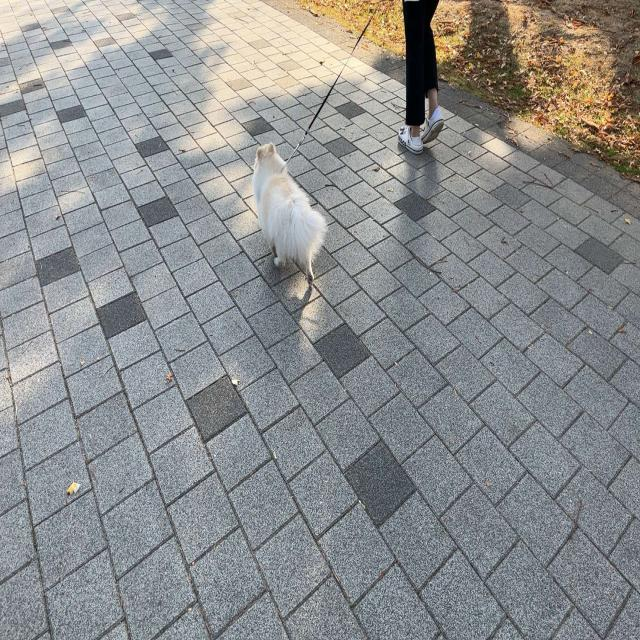Leashed_Dog: (252, 0, 426, 289)
